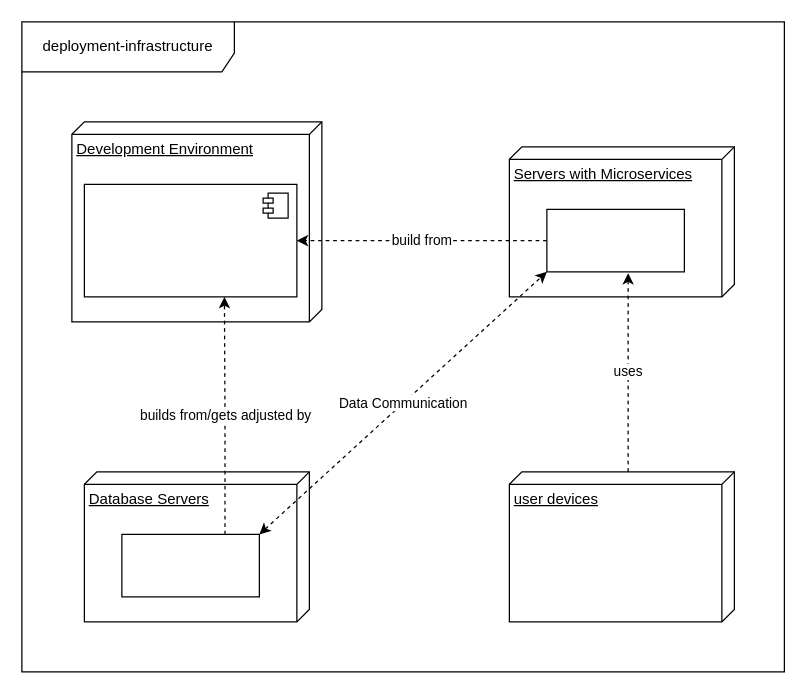
This 806x694 diagram has some shape labels left out. The centre of each missing label's shape, as x and y in pixels:
Development Stage: (x=190, y=240)
processes: (x=615, y=240)
RDBMS: (x=190, y=565)
